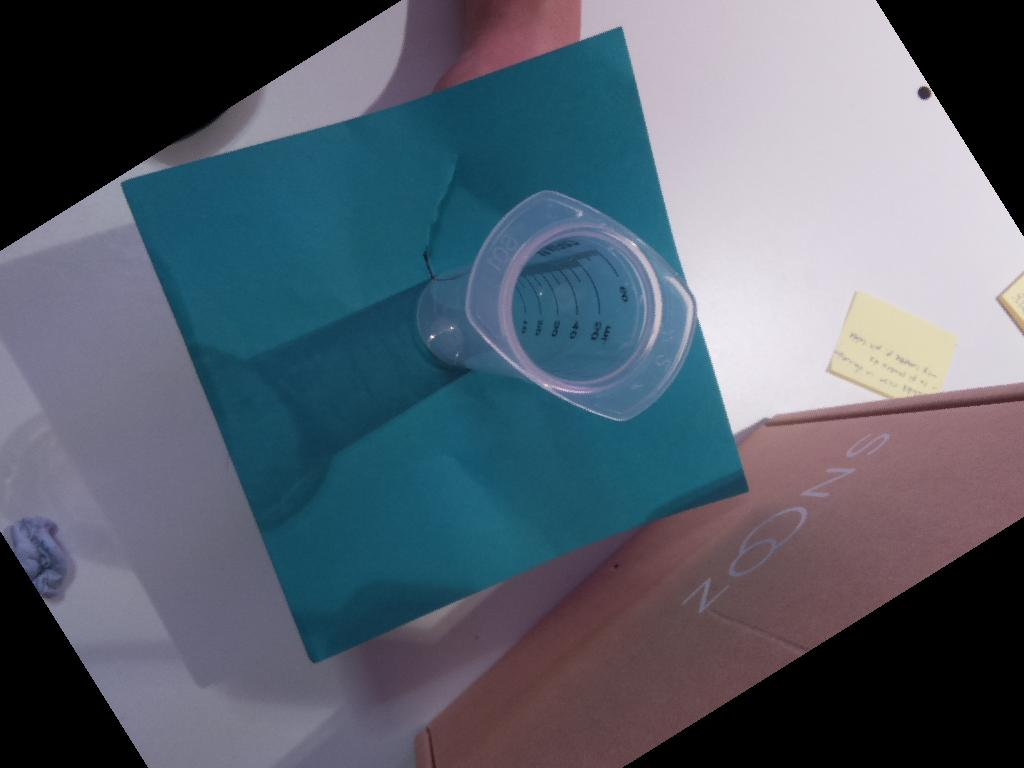clean: (465, 190, 698, 423)
